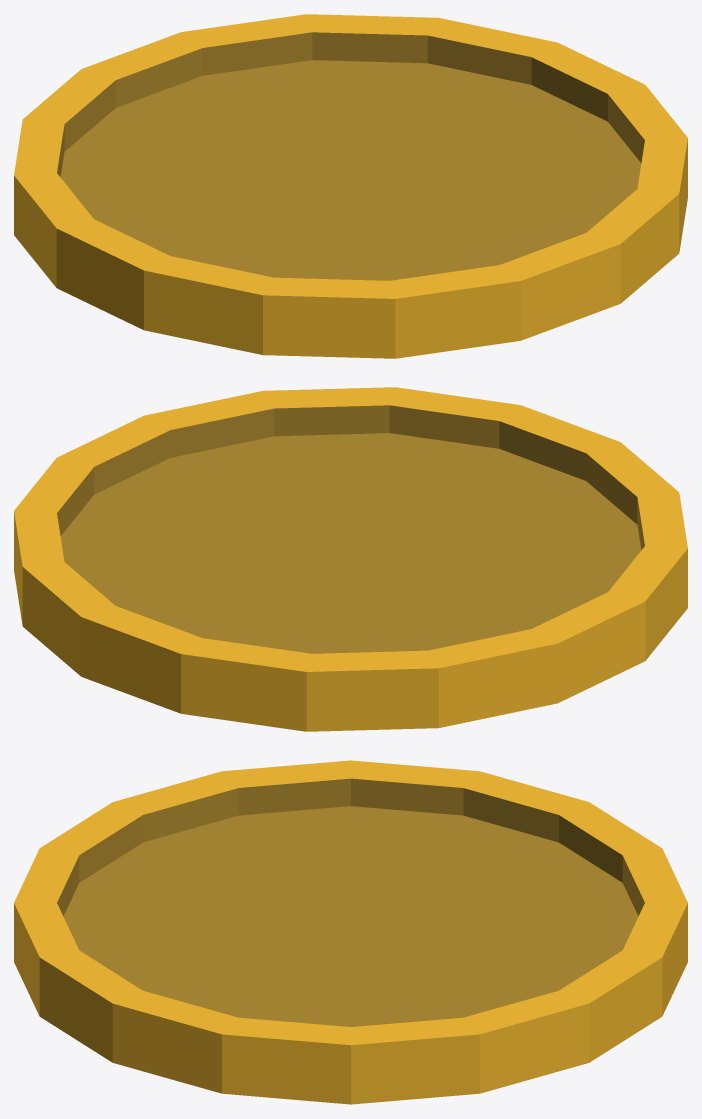
Rendered from Base_Coin.fbx.
3 views of the same model, one above another, from view 1: azimuth 30°, elevation 25°; view 2: azimuth 150°, elevation 25°; view 3: azimuth 270°, elevation 25° (orthographic).
Parts seen in each view (by area): view 1: BaseCoin; view 2: BaseCoin; view 3: BaseCoin.
Part boxes in pixels (x1=…): BaseCoin: x1=14, y1=14, x2=687, y2=358; BaseCoin: x1=14, y1=387, x2=687, y2=731; BaseCoin: x1=14, y1=760, x2=687, y2=1104.
Bounding box in the file's own units: 20 × 20 × 1.94.
